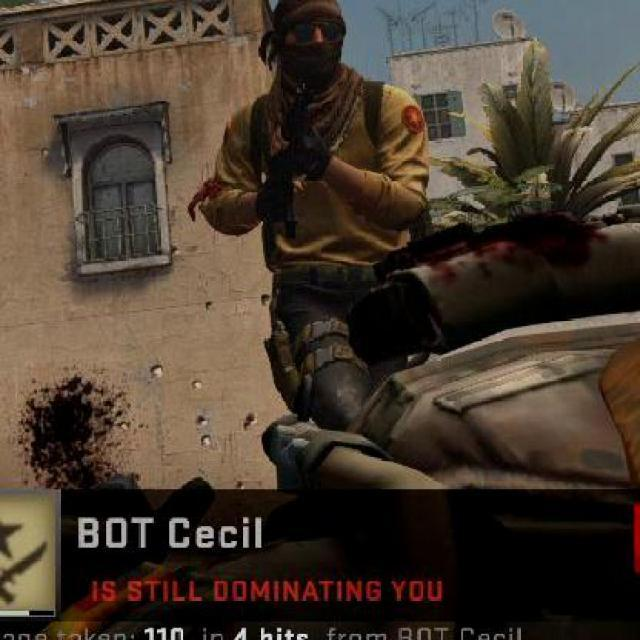T: (220, 0, 436, 425)
T_HEAD: (256, 0, 355, 92)
